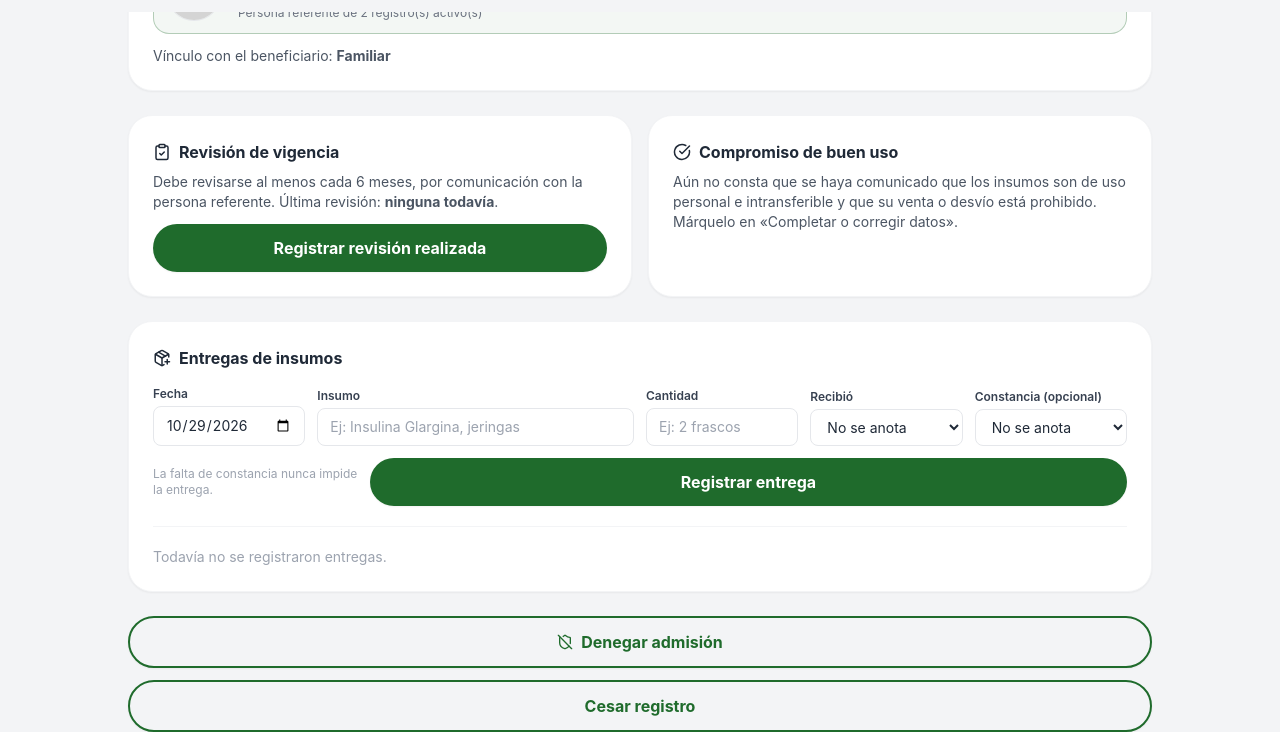
it: Registro Asistido: ficha › registra una entrega sin constancia ni datos del receptor
(page scrolled)
Type "Insulina Glargina" into the field labelled "Insumo".
click(476, 427); type("Insulina Glargina")  # box [317, 408, 634, 446]
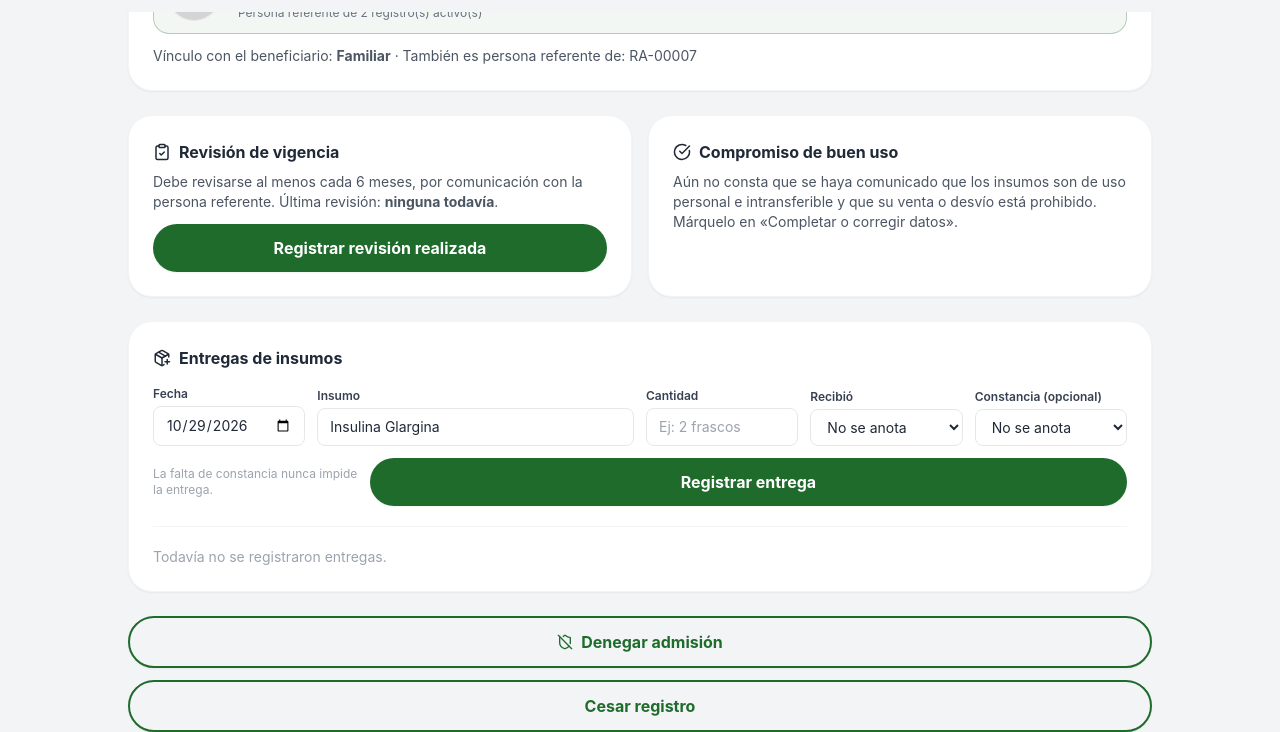
Type "2 frascos" into the field labelled "Cantidad".
click(722, 427); type("2 frascos")  # box [646, 408, 798, 446]
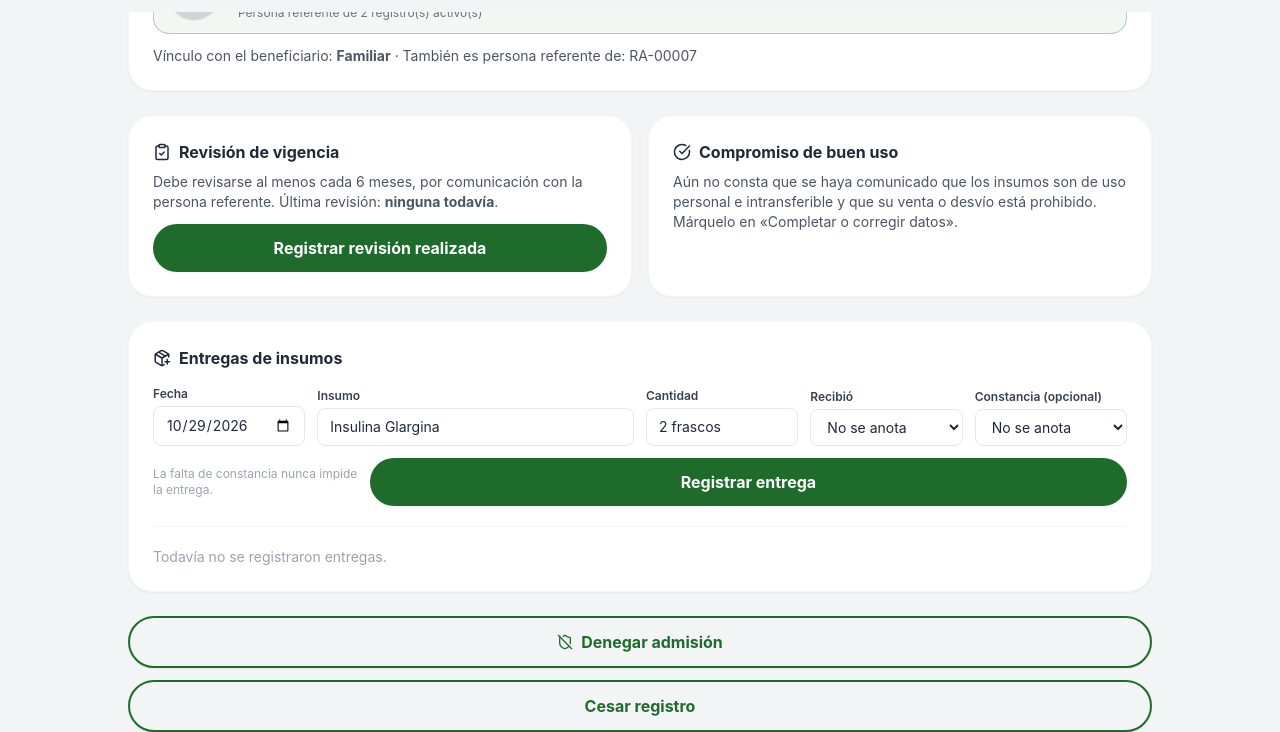
Click the button "Registrar entrega".
click(748, 482)  # box [370, 458, 1127, 506]
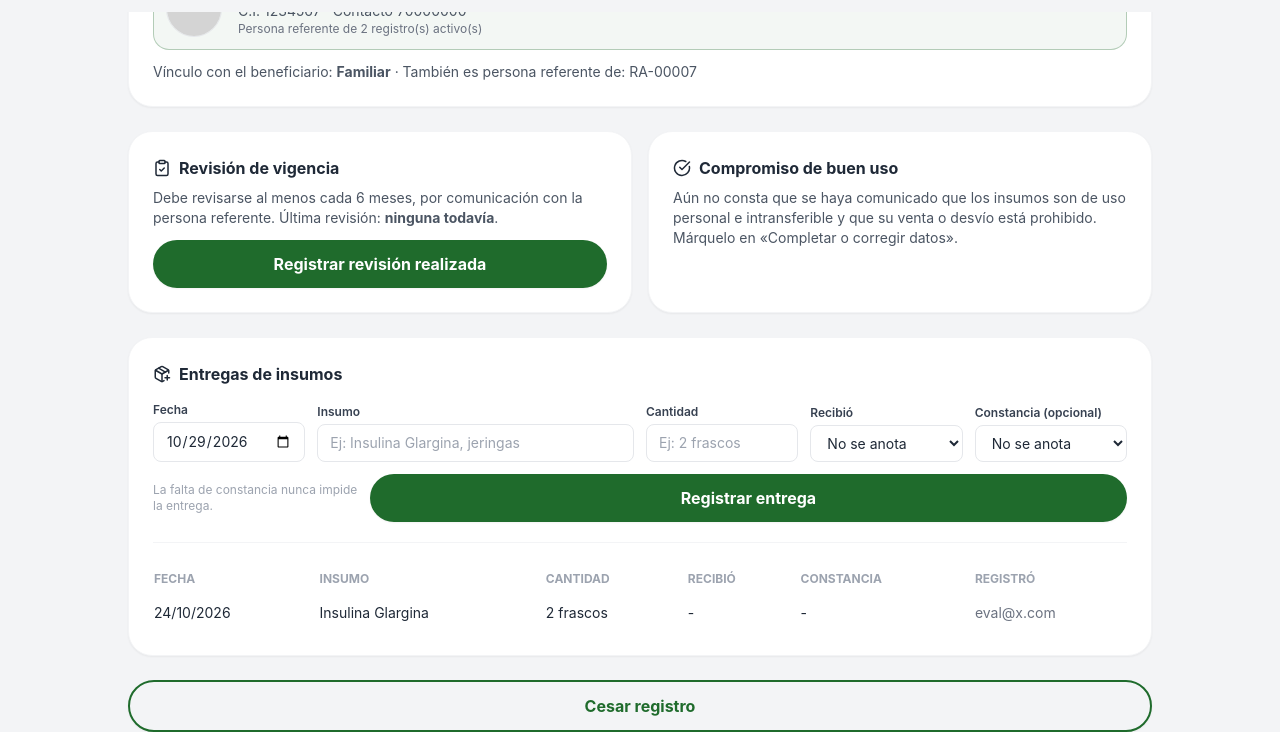
Result: the text "2 frascos" is shown at [545, 595, 687, 631]
